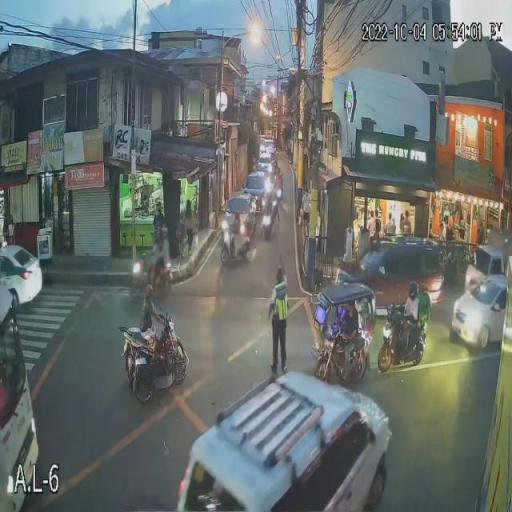helmet: (405, 280, 419, 298)
motorcycle: (377, 310, 428, 374), (128, 255, 170, 300), (220, 226, 248, 266), (255, 212, 275, 244)
rider: (396, 282, 423, 352), (146, 230, 166, 272), (226, 208, 245, 246), (260, 195, 274, 226)
